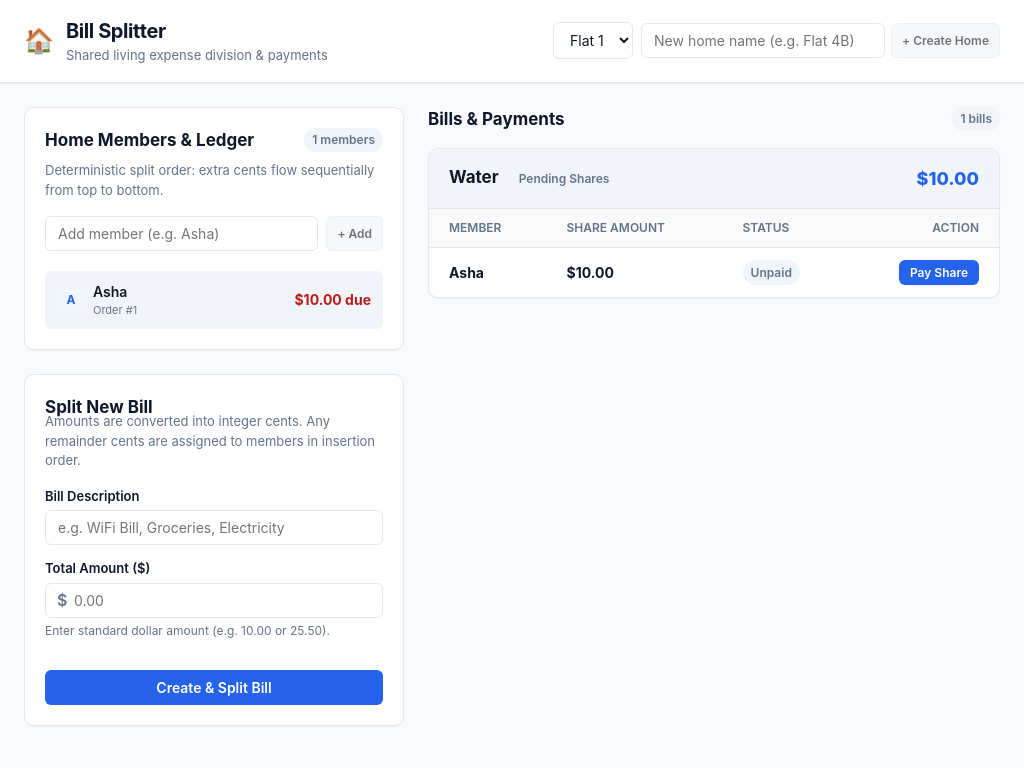
Dashboard Component - Genuine React DOM Interactions › 10. Renders Retry Payment on HTTP 500 and keeps share unpaid
Expected: the heading "Water" is shown, [449,165,499,191]
Click the button "Pay Share": (939, 272) [899,260,979,285]
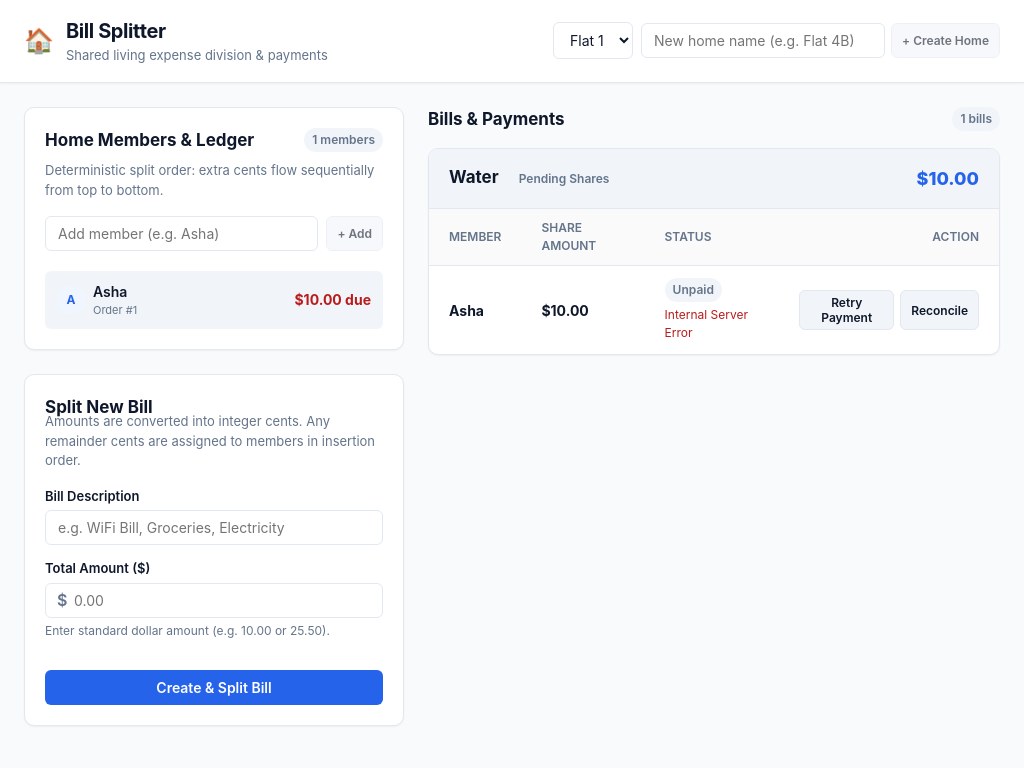
Expected: the text "Unpaid" is shown, [665,278,722,302]
Expected: the button "Retry Payment" is shown, [799,290,894,330]
Expected: the text "Internal Server Error" is shown, [665,306,759,342]
